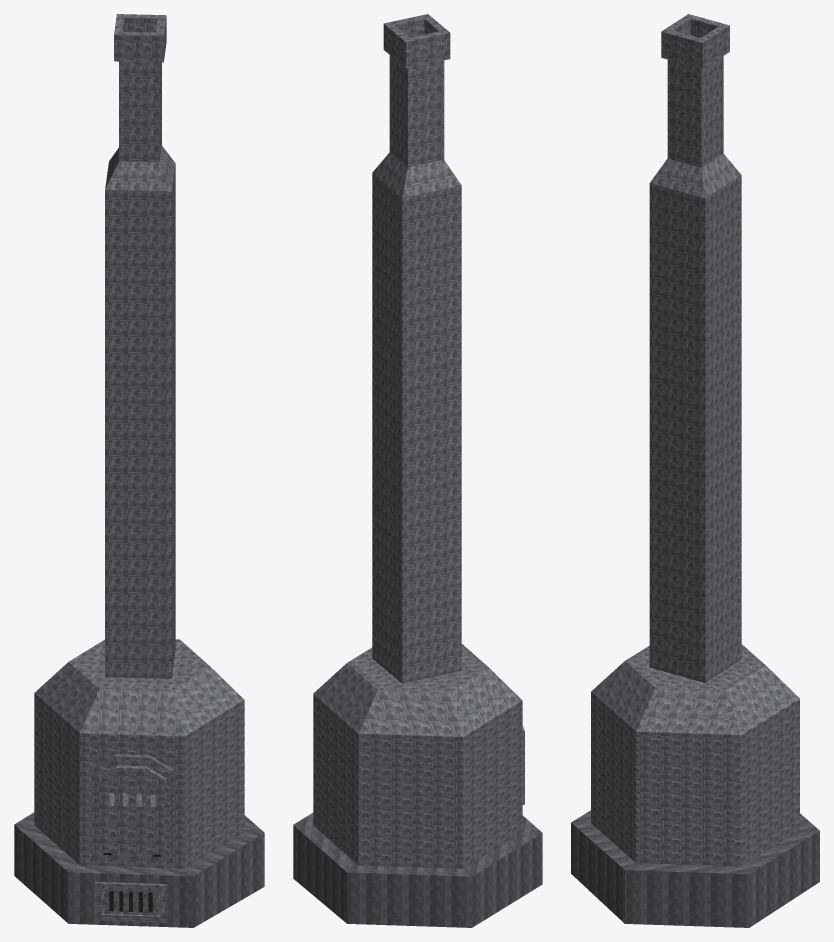
File: RoundRefiner.fbx
3 views of the same model, side by side, from view 1: azimuth 30°, elevation 25°; view 2: azimuth 150°, elevation 25°; view 3: azimuth 270°, elevation 25° (orthographic).
Visible parts, largest first — view 1: RoundRefiner, ventTop, boxRefinerDoor, vent.001; view 2: RoundRefiner, ventTop; view 3: ventTop, RoundRefiner.
Boxes of the visible parts, box(x1,y1,x2,y2) form: RoundRefiner: box(14, 639, 264, 927); ventTop: box(105, 14, 175, 678); boxRefinerDoor: box(98, 765, 165, 857); vent.001: box(94, 881, 167, 922); RoundRefiner: box(293, 644, 542, 927); ventTop: box(372, 14, 461, 683); ventTop: box(649, 14, 741, 682); RoundRefiner: box(571, 644, 819, 927).
Size of the model in its own units: 1251 by 5224 by 1383.
